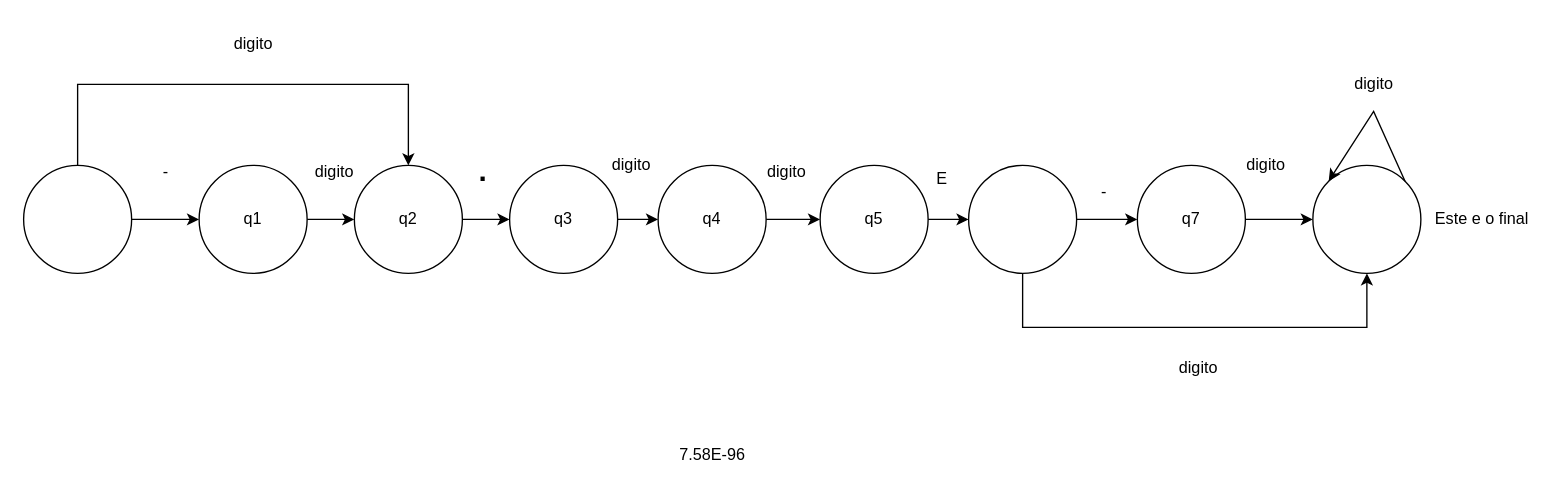
The diagram is 1566 pixels wide and 498 high, and some of its shapes have lost their labels. Here are the shapes that lost their labels. From the top down, the box of each, then its label:
(22, 164, 132, 273): q0
(967, 164, 1077, 273): q6
(1312, 164, 1421, 273): q8
